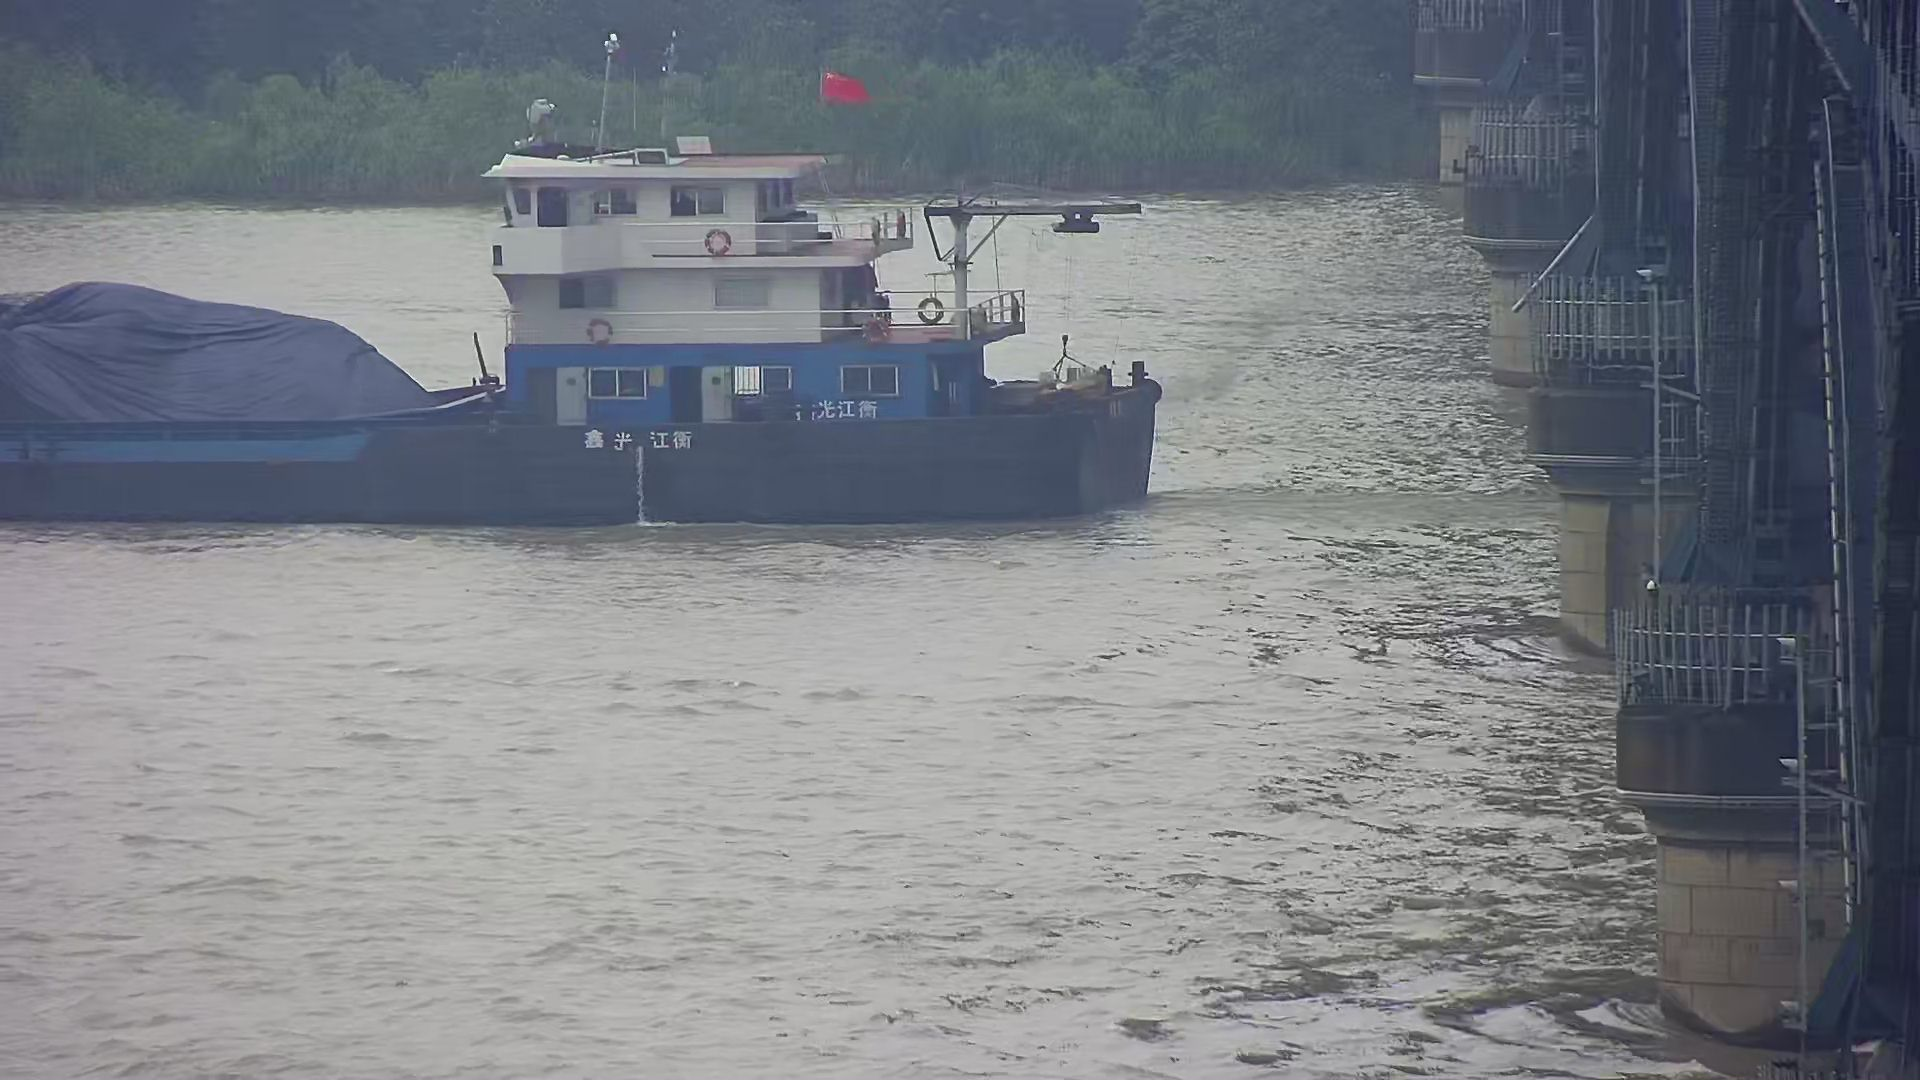bridge: (1403, 3, 1920, 1080)
ship: (1, 22, 1162, 531)
